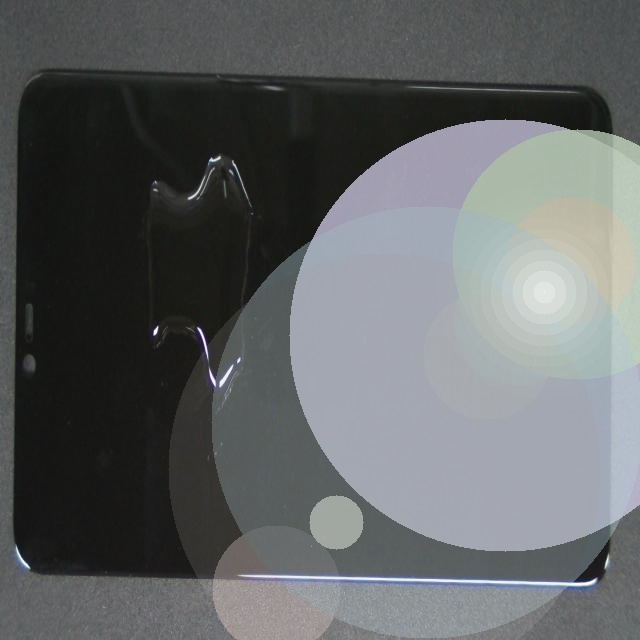oil: (147, 117, 364, 267)
